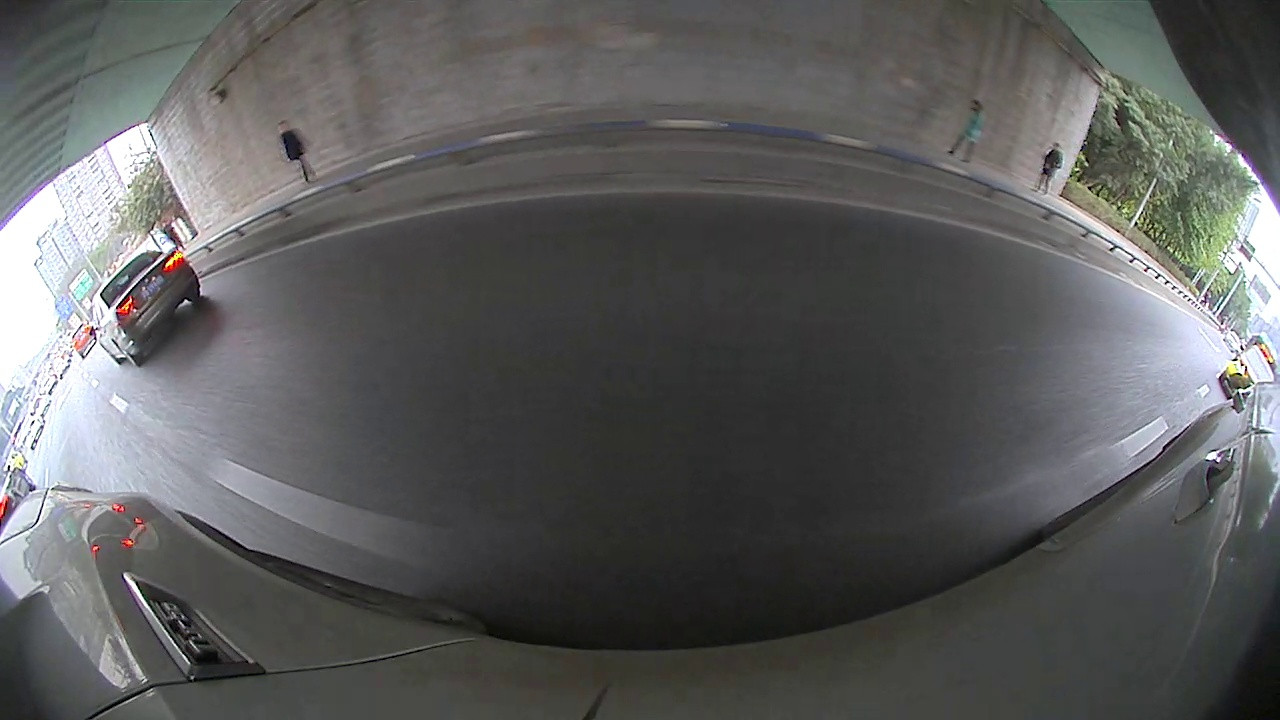car: (91, 248, 202, 368), (1218, 344, 1278, 399)
front: (100, 341, 123, 369)
person: (968, 98, 984, 163), (281, 120, 298, 181), (1047, 141, 1063, 192)
rear: (112, 339, 144, 371), (181, 278, 207, 306)
